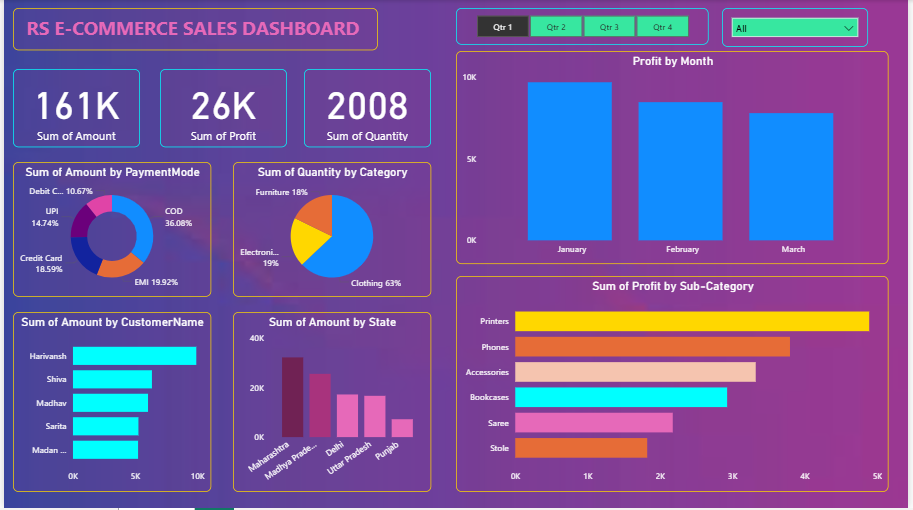

The page's visual inventory and layout, read from the dashboard file:
{"tool":"powerbi","page":{"name":"Page 1","canvas":[1280,720],"ordinal":0},"visuals":[{"type":"textbox","box":[13.4,11.8,517.4,60.5],"z":0},{"type":"columnChart","title":"Profit by Month","fields":{"Y":["Details.Profit"],"Category":["Orders.Order Date.Variation.Date Hierarchy.Month"]},"box":[640,72.2,613.1,302.4],"z":1000},{"type":"barChart","fields":{"Category":["Details.Sub-Category"],"Y":["Details.Profit"]},"box":[640,391.4,613.1,305.7],"z":2000},{"type":"pieChart","fields":{"Category":["Details.Category"],"Y":["Details.Quantity"]},"box":[324.2,230.1,280.5,191.5],"z":3000},{"type":"donutChart","fields":{"Category":["Details.PaymentMode"],"Y":["Details.Amount"]},"box":[13.4,230.1,280.5,191.5],"z":4000},{"type":"card","fields":{"Values":["Details.Profit"]},"box":[221.7,97.4,179.7,110.9],"z":5000},{"type":"card","fields":{"Values":["Details.Amount"]},"box":[13.4,97.4,179.7,110.9],"z":6000},{"type":"card","fields":{"Values":["Details.Quantity"]},"box":[425,97.4,179.7,110.9],"z":7000},{"type":"clusteredColumnChart","fields":{"Category":["Orders.State"],"Y":["Details.Amount"]},"box":[324.2,441.8,280.5,255.3],"z":8000},{"type":"barChart","fields":{"Category":["Orders.CustomerName"],"Y":["Details.Amount"]},"box":[13.4,441.8,280.5,255.3],"z":9000},{"type":"slicer","fields":{"Values":["Orders.Order Date.Variation.Date Hierarchy.Quarter"]},"box":[640,11.8,357.8,52.1],"z":10000},{"type":"slicer","fields":{"Values":["Orders.State"]},"box":[1018,11.8,206.6,55.4],"z":11000}]}

Visuals, with their boxes in screenshot pixels (x1, y1, x2, y2), scaled from the page's 1280x720 canvas onto the 913x510 screenshot:
textbox: <bbox>10, 8, 379, 51</bbox>
"Profit by Month" columnChart: <bbox>456, 51, 894, 265</bbox>
barChart - Details.Sub-Category x Details.Profit: <bbox>456, 277, 894, 494</bbox>
pieChart - Details.Category x Details.Quantity: <bbox>231, 163, 431, 299</bbox>
donutChart - Details.PaymentMode x Details.Amount: <bbox>10, 163, 210, 299</bbox>
card - Details.Profit: <bbox>158, 69, 286, 148</bbox>
card - Details.Amount: <bbox>10, 69, 138, 148</bbox>
card - Details.Quantity: <bbox>303, 69, 431, 148</bbox>
clusteredColumnChart - Orders.State x Details.Amount: <bbox>231, 313, 431, 494</bbox>
barChart - Orders.CustomerName x Details.Amount: <bbox>10, 313, 210, 494</bbox>
slicer - Orders.Order Date.Variation.Date Hierarchy.Quarter: <bbox>456, 8, 712, 45</bbox>
slicer - Orders.State: <bbox>726, 8, 873, 48</bbox>
